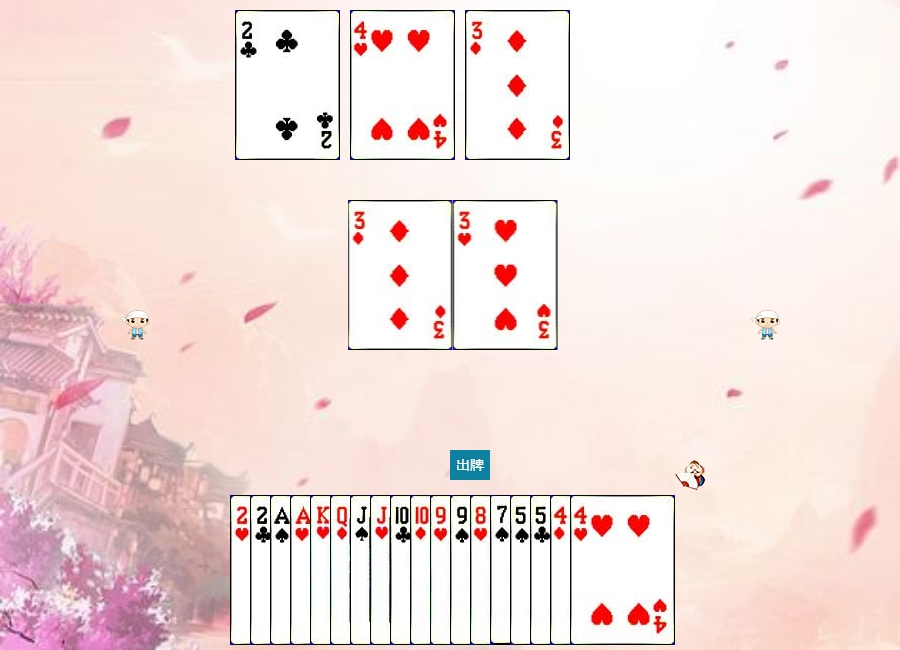10~1: (410, 495, 515, 645)
10~2: (390, 495, 495, 645)
11~3: (370, 495, 475, 645)
11~4: (350, 495, 455, 645)
12~1: (330, 495, 435, 645)
13~3: (310, 495, 415, 645)
14~3: (290, 495, 395, 645)
14~4: (270, 495, 375, 645)
15~2: (235, 10, 340, 160), (250, 495, 355, 645)
15~3: (230, 495, 335, 645)
3~1: (465, 10, 570, 160), (348, 200, 453, 350)
3~3: (453, 200, 558, 350)
4~1: (550, 495, 655, 645)
4~3: (350, 10, 455, 160), (570, 495, 675, 645)
5~2: (530, 495, 635, 645)
5~4: (510, 495, 615, 645)
7~4: (490, 495, 595, 645)
8~3: (470, 495, 575, 645)
9~3: (430, 495, 535, 645)
9~4: (450, 495, 555, 645)
